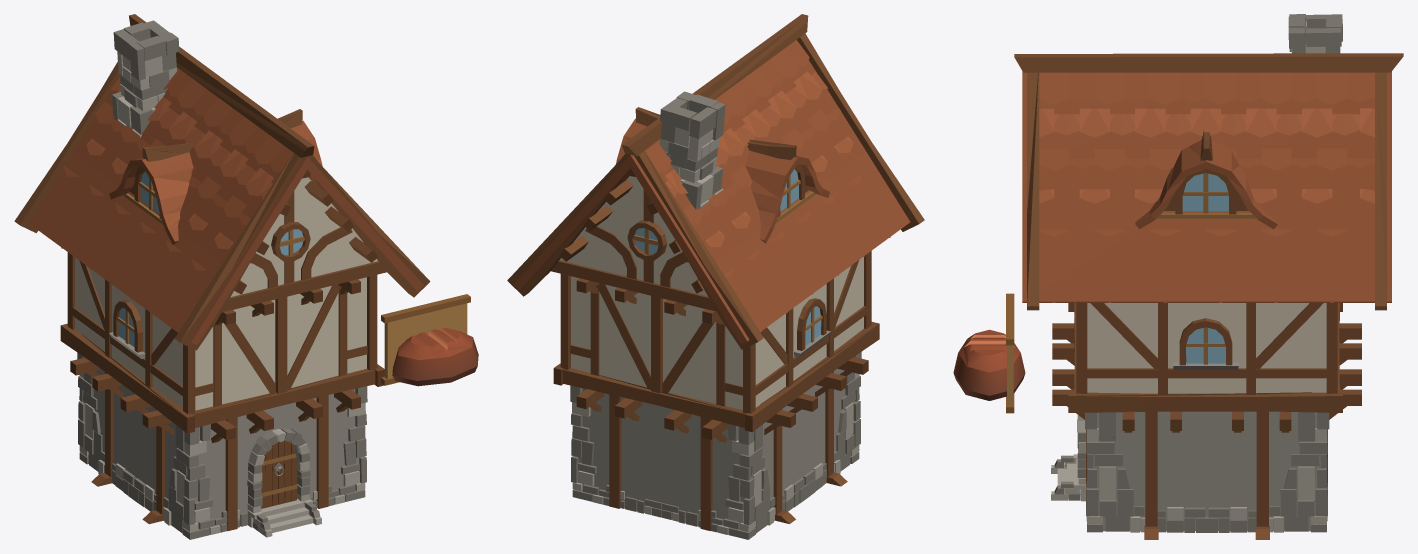
The model's file is bakery.glb.
The picture shows the model from 3 angles, left to right: view 1: azimuth 30°, elevation 25°; view 2: azimuth 150°, elevation 25°; view 3: azimuth 270°, elevation 25°; orthographic projection. The views are drawn at different scales.
Visible parts, largest first — view 1: building-bakery-far, building-bakery; view 2: building-bakery, building-bakery-far; view 3: building-bakery, building-bakery-far.
Part boxes in pixels (<box>): building-bakery-far: <box>14,22,471,530</box>; building-bakery: <box>36,14,478,539</box>; building-bakery: <box>507,14,918,539</box>; building-bakery-far: <box>508,16,924,530</box>; building-bakery: <box>953,14,1403,539</box>; building-bakery-far: <box>963,14,1402,532</box>.
Size of the model in its own units: 4.24 by 5.97 by 5.41.
